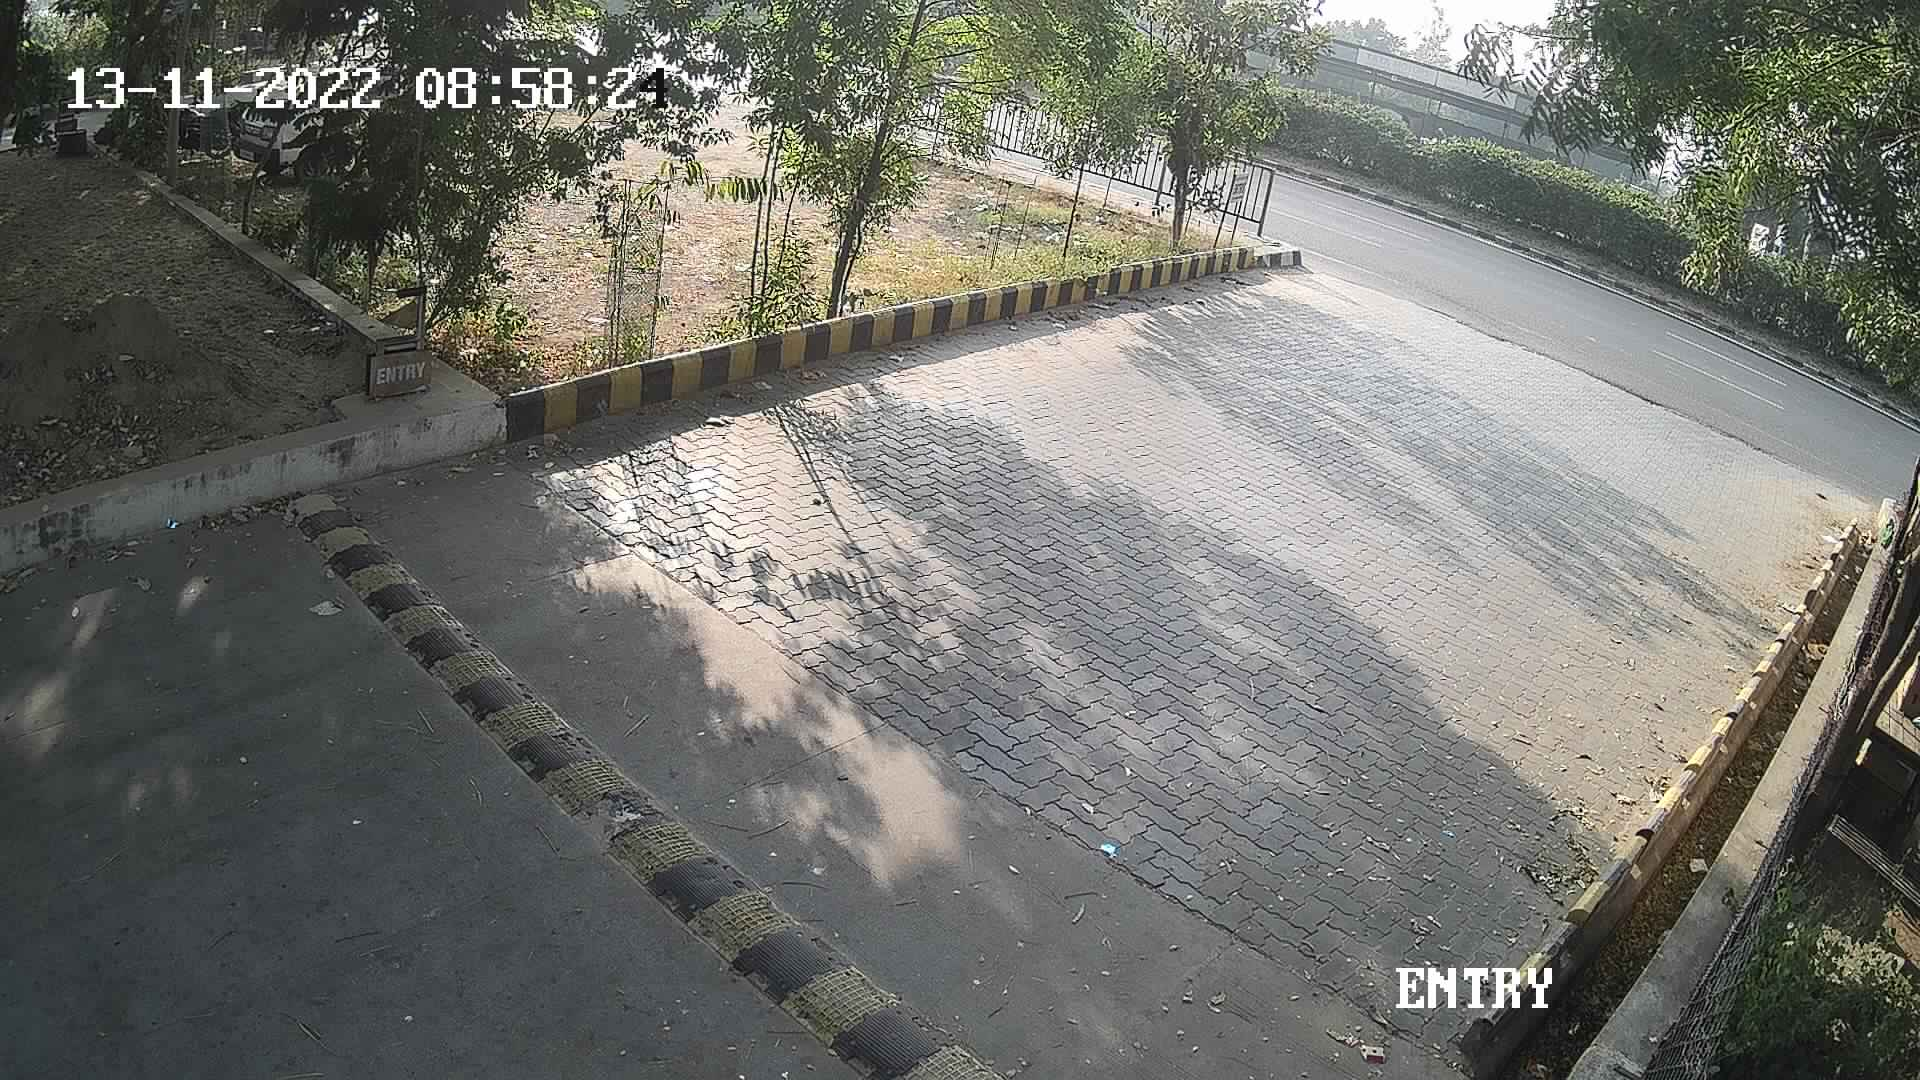Car: (222, 51, 351, 182)
